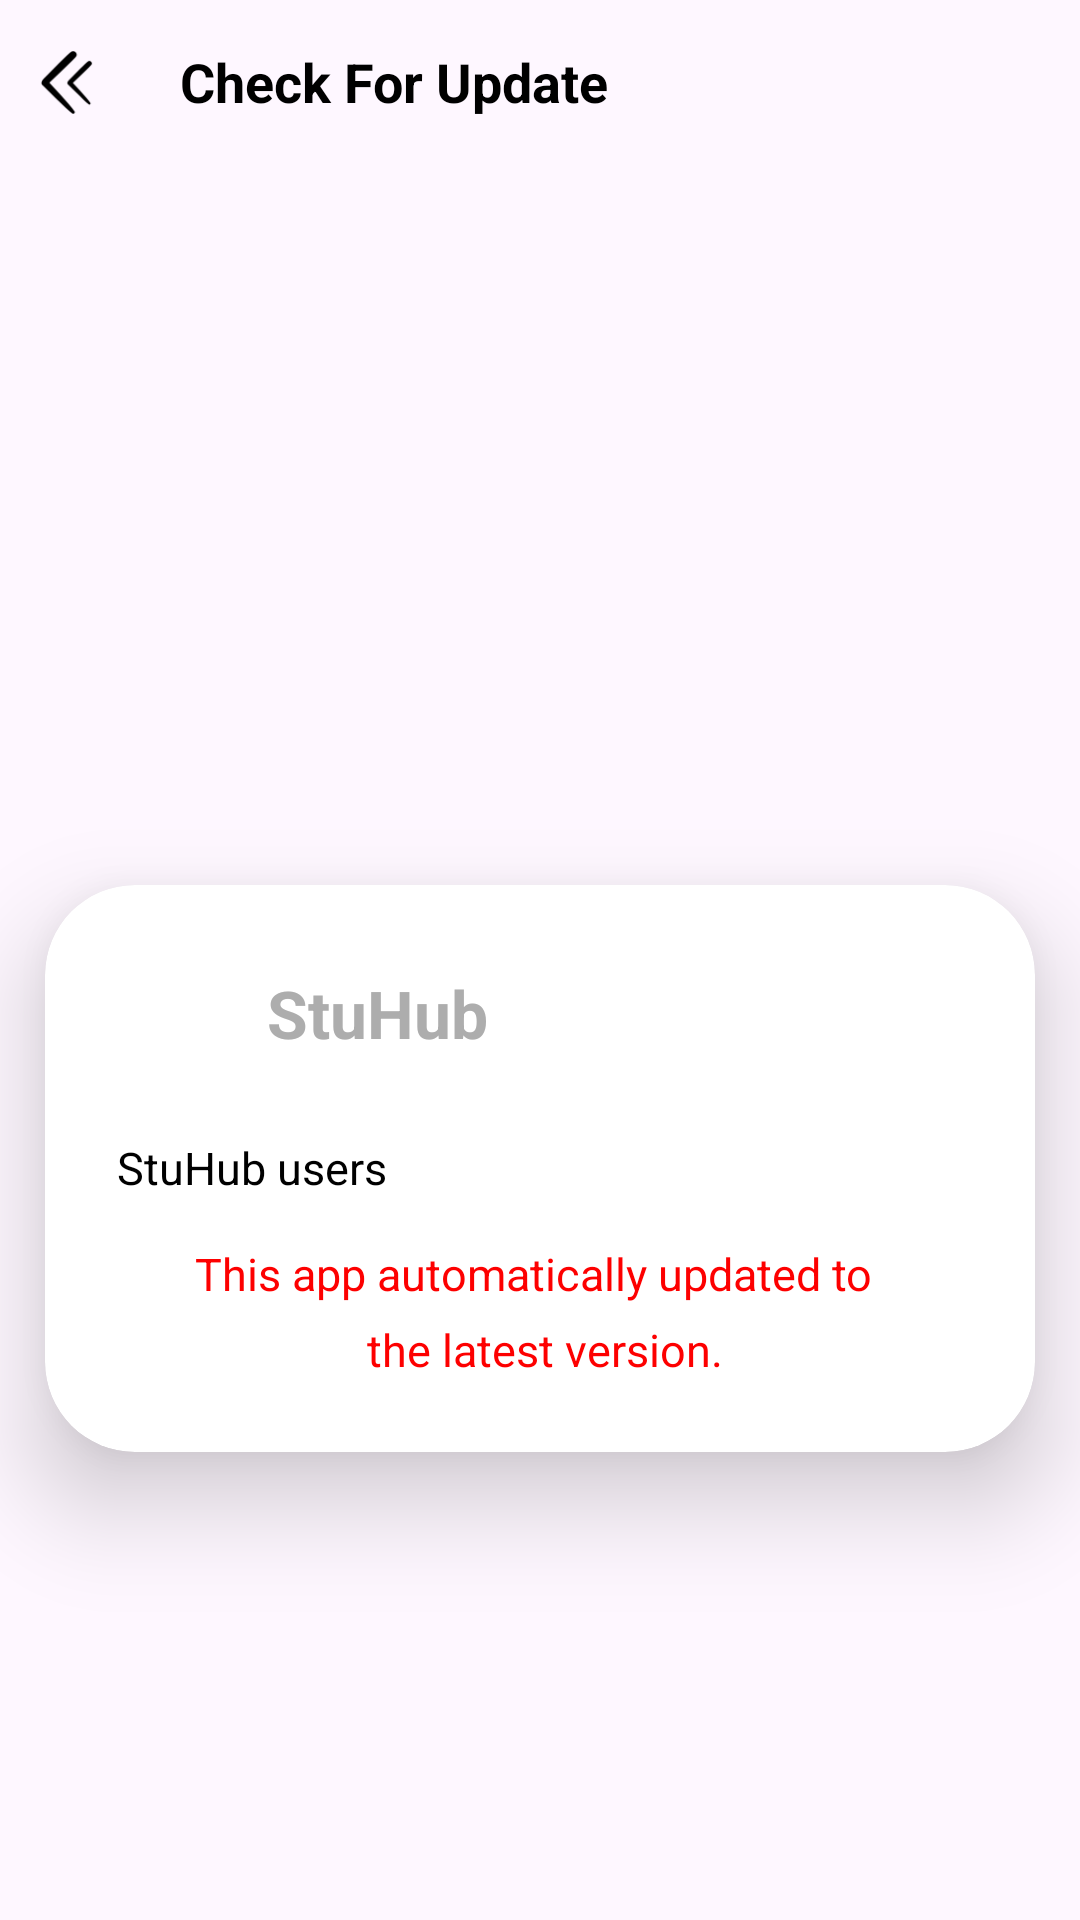

Where to tap for icons on this 1080*1920 app screen, as (x,y):
back: (66,82)
